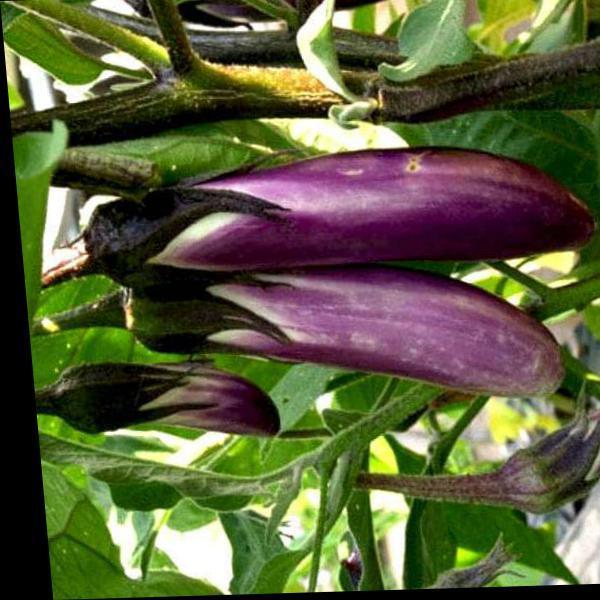eggplant: (72, 142, 600, 450)
